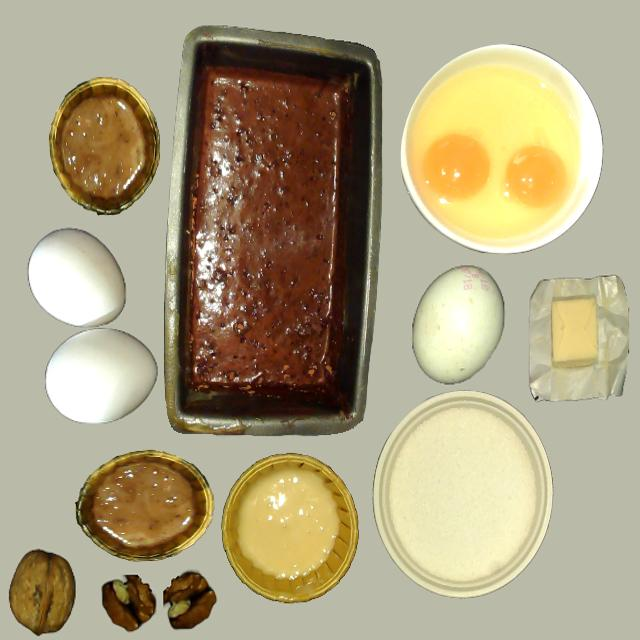Egg: (424, 134, 490, 200), (505, 146, 566, 207)
Sugar: (374, 391, 550, 596)
Walnut: (8, 550, 76, 634)
